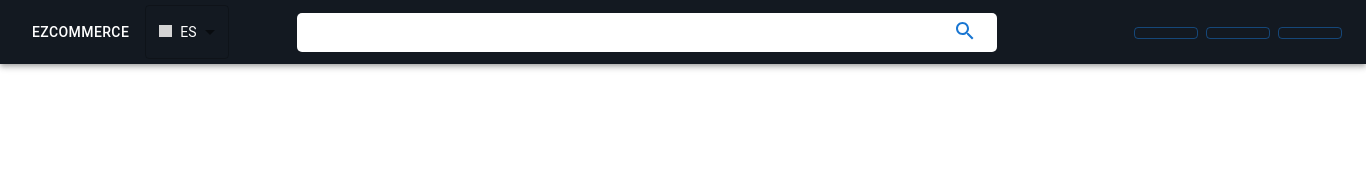
Test: Test locale change button to en and back to es
The image size is (1366, 177).
Press the mouse on the dropdown "ES" at {"x": 178, "y": 32}, box [159,24,197,40]
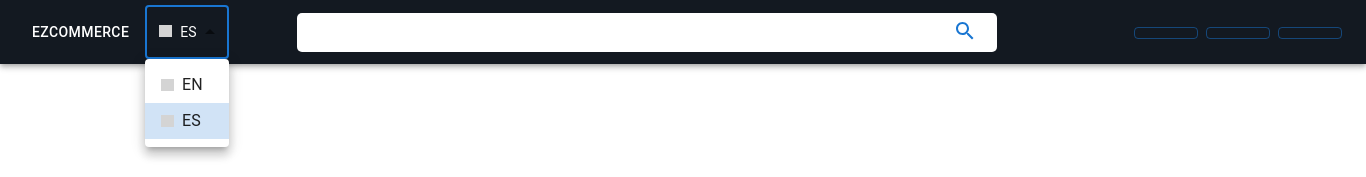
Click the option "EN".
click(182, 84)  # box [161,75,203,94]
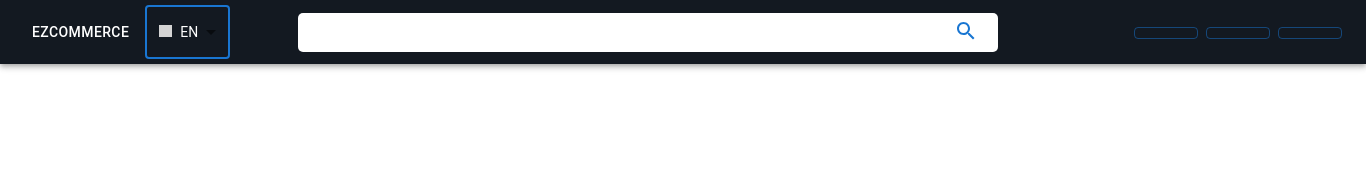
Now the dropdown "EN" is shown
Press the mouse on the dropdown "EN" at {"x": 179, "y": 32}, box [159,24,198,40]
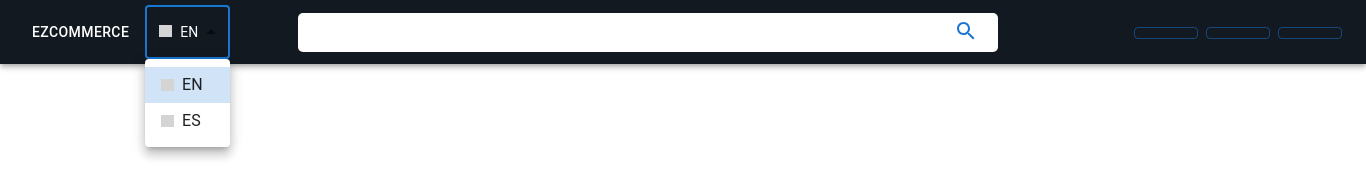
Click the option "ES".
click(181, 120)  # box [161,111,201,130]
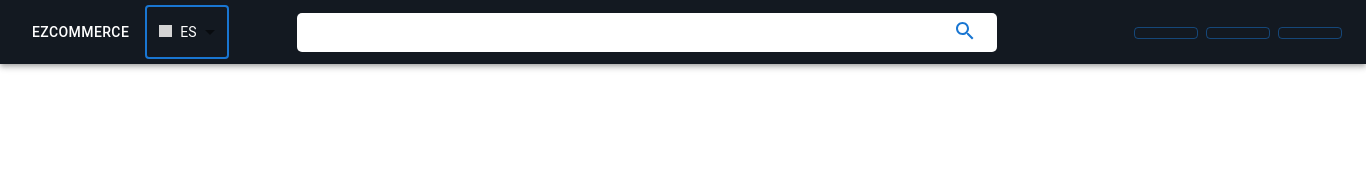
Now the dropdown "ES" is shown, box [159,24,197,40]
